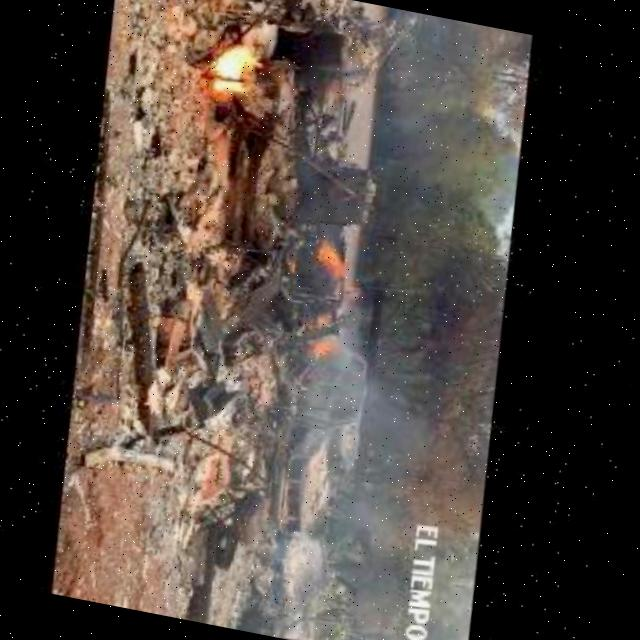fire: (214, 44, 270, 108), (316, 245, 348, 278)
